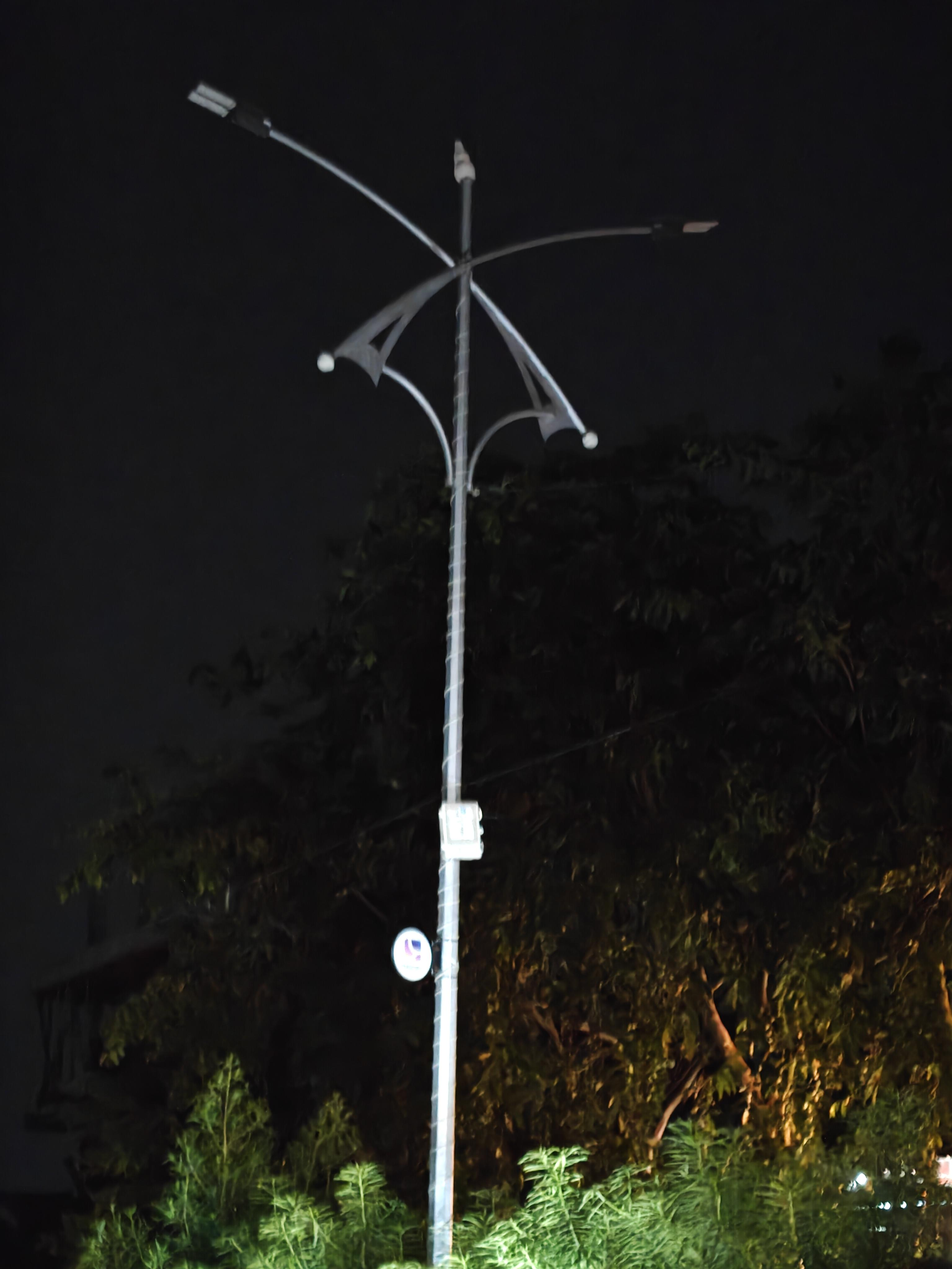streetlight: (183, 77, 431, 268), (494, 212, 725, 251)
